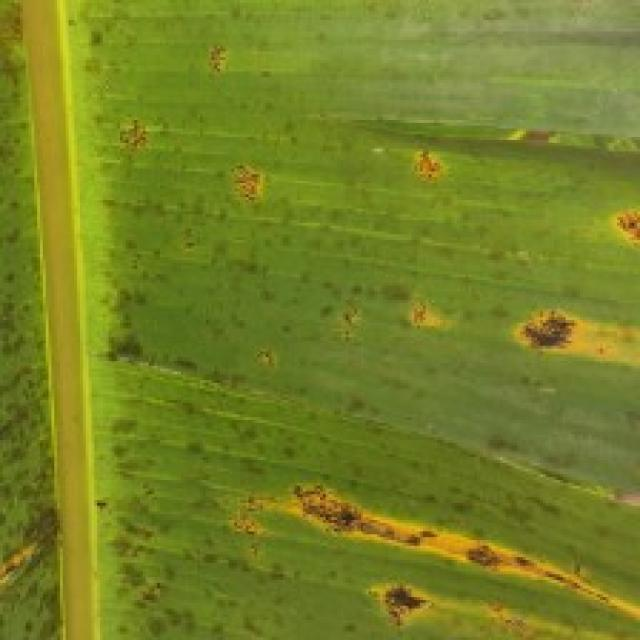Downey_mildrew: (4, 105, 640, 639), (203, 454, 640, 640), (2, 4, 108, 640), (401, 255, 640, 396), (107, 280, 192, 400), (496, 96, 640, 162), (214, 128, 288, 225), (99, 104, 182, 177), (390, 143, 454, 213), (591, 176, 640, 266), (191, 36, 241, 99)
